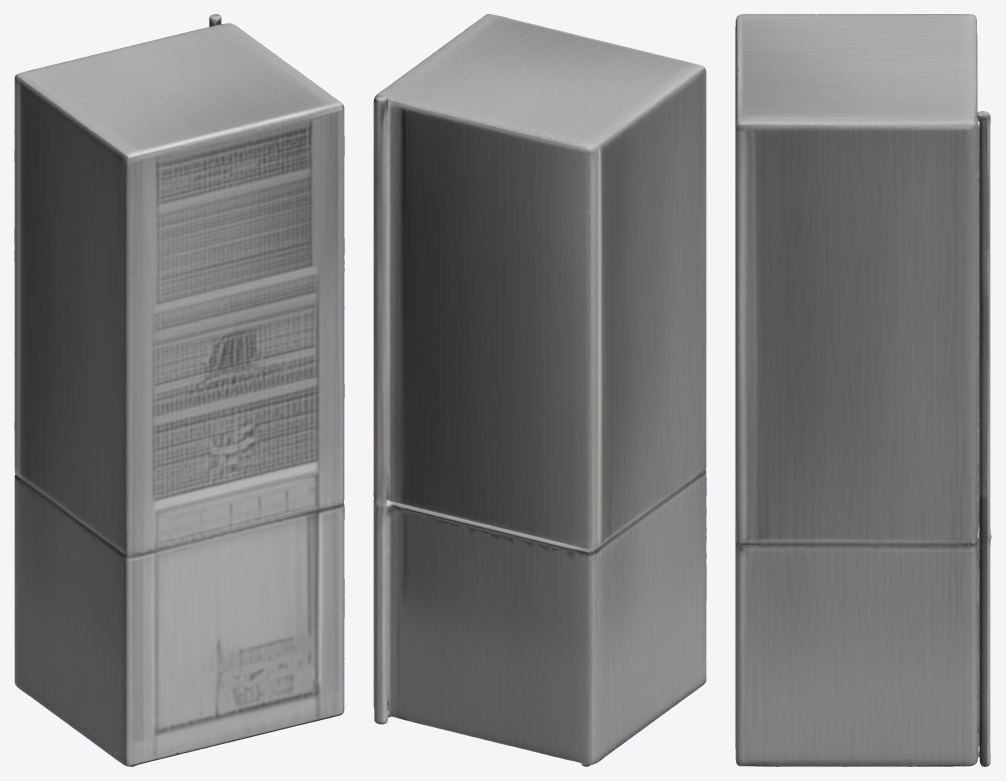
File: item_e60a8d9c.glb
3 views of the same model, side by side, from view 1: azimuth 30°, elevation 25°; view 2: azimuth 150°, elevation 25°; view 3: azimuth 270°, elevation 25° (orthographic). The views are drawn at different scales.
Visible parts, largest first — view 1: world; view 2: world; view 3: world.
Part boxes in pixels (x1,y1,x2,y2): world: (14, 14, 344, 766); world: (373, 14, 706, 766); world: (735, 14, 991, 766).
Bounding box in the file's own units: 1.8 × 4.85 × 1.73.
1 material, 1 textured.
